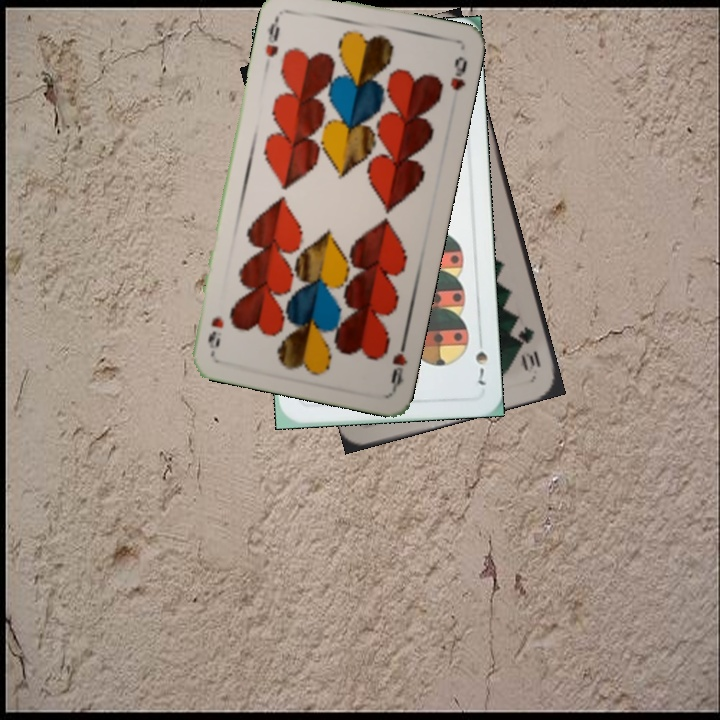G10: (514, 322, 544, 375)
H9: (386, 333, 410, 392), (261, 11, 286, 60)
S7: (471, 346, 490, 388)
